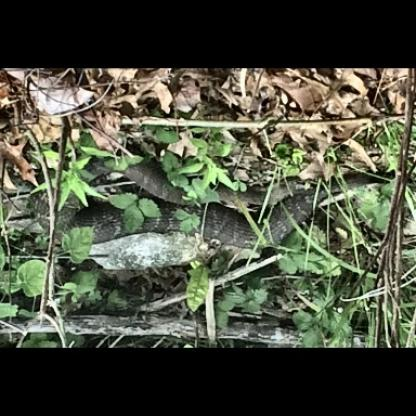Snake: (14, 177, 409, 255)
